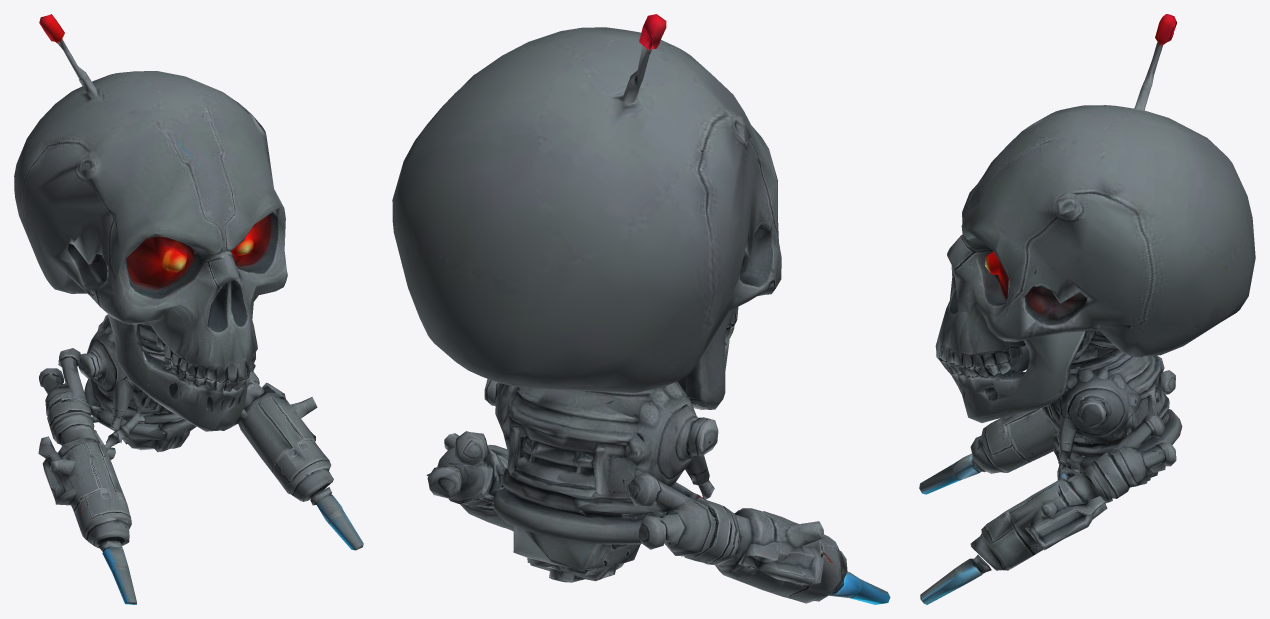
File: drone.glb
The picture shows the model from 3 angles, left to right: view 1: azimuth 30°, elevation 25°; view 2: azimuth 150°, elevation 25°; view 3: azimuth 270°, elevation 25°; orthographic projection. The views are drawn at different scales.
Size of the model in its own units: 1.07 by 1.9 by 1.16.
Materials: 1 (1 with a texture image).
